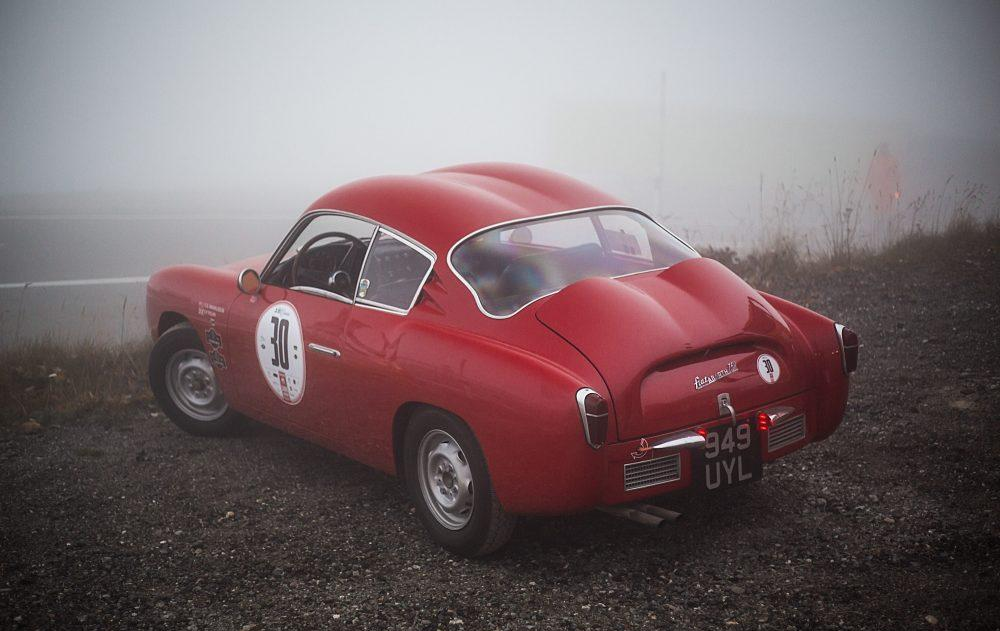car: (140, 156, 864, 559)
